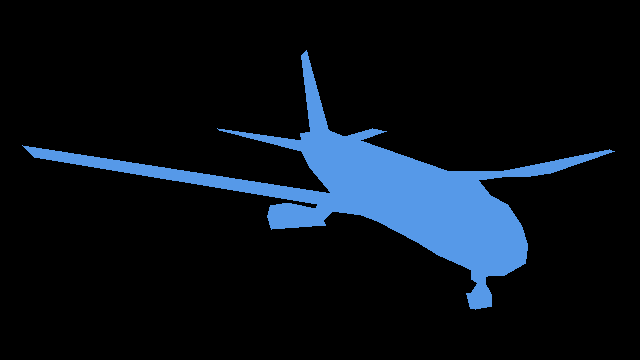Airplane: (22, 50, 615, 309)
